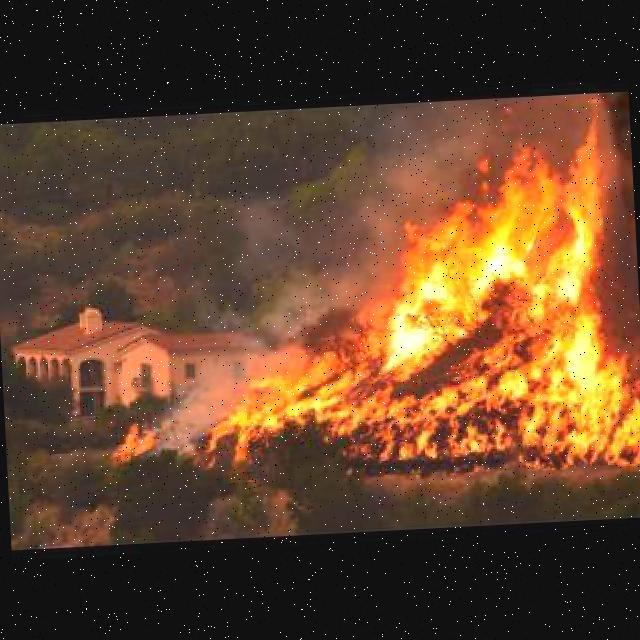Fire: (180, 107, 640, 488)
